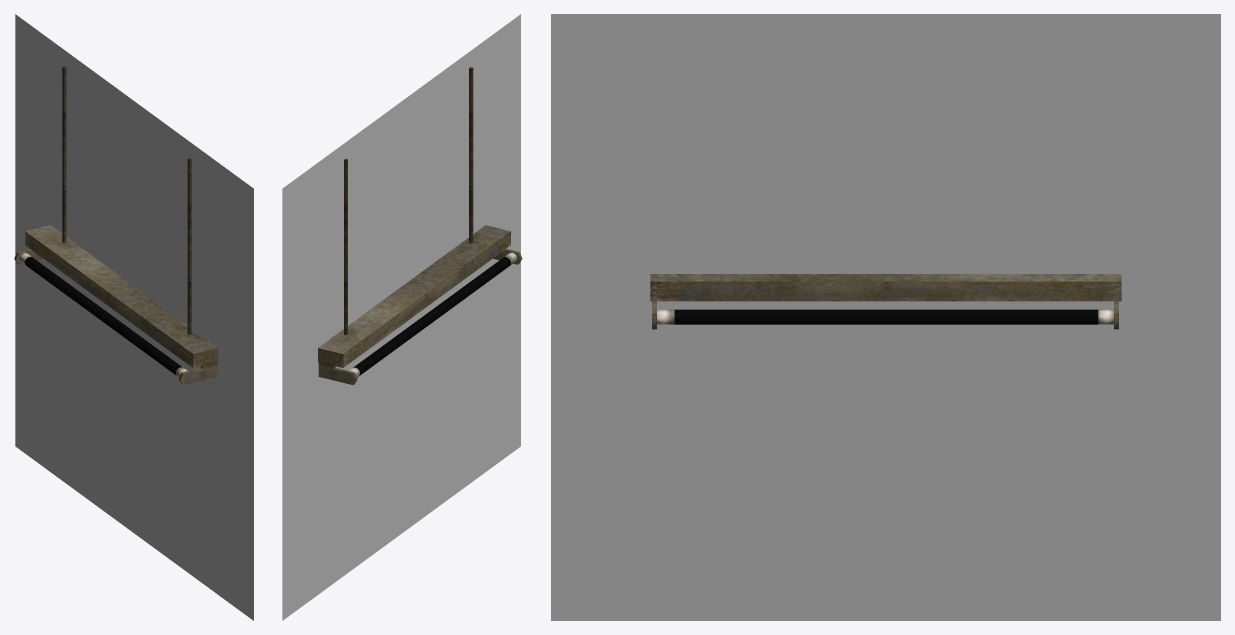
Rendered from modern_mine_flour_light.dae.
The picture shows the model from 3 angles, left to right: view 1: azimuth 30°, elevation 25°; view 2: azimuth 150°, elevation 25°; view 3: azimuth 270°, elevation 25°; orthographic projection. The views are drawn at different scales.
Visible parts, largest first — view 1: _bb_light_white_halo02_halo01, lamp, noshadow_fluorescent; view 2: _bb_light_white_halo02_halo01, lamp, noshadow_fluorescent; view 3: _bb_light_white_halo02_halo01, lamp, noshadow_fluorescent.
Boxes of the visible parts, x1=… form: _bb_light_white_halo02_halo01: x1=15, y1=14, x2=253, y2=620; lamp: x1=14, y1=66, x2=218, y2=385; noshadow_fluorescent: x1=19, y1=252, x2=187, y2=377; _bb_light_white_halo02_halo01: x1=282, y1=14, x2=520, y2=620; lamp: x1=318, y1=67, x2=522, y2=384; noshadow_fluorescent: x1=349, y1=252, x2=517, y2=377; _bb_light_white_halo02_halo01: x1=551, y1=14, x2=1220, y2=620; lamp: x1=650, y1=274, x2=1121, y2=329; noshadow_fluorescent: x1=657, y1=309, x2=1113, y2=324.
Size of what is drawn, in the model's own units: 0.4627 by 3.16 by 3.16.
